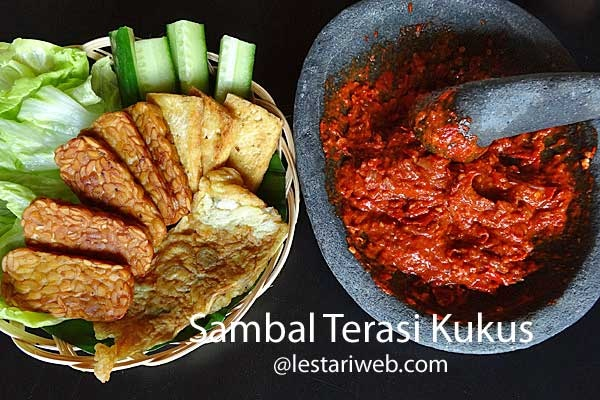sambal: (338, 92, 573, 292)
